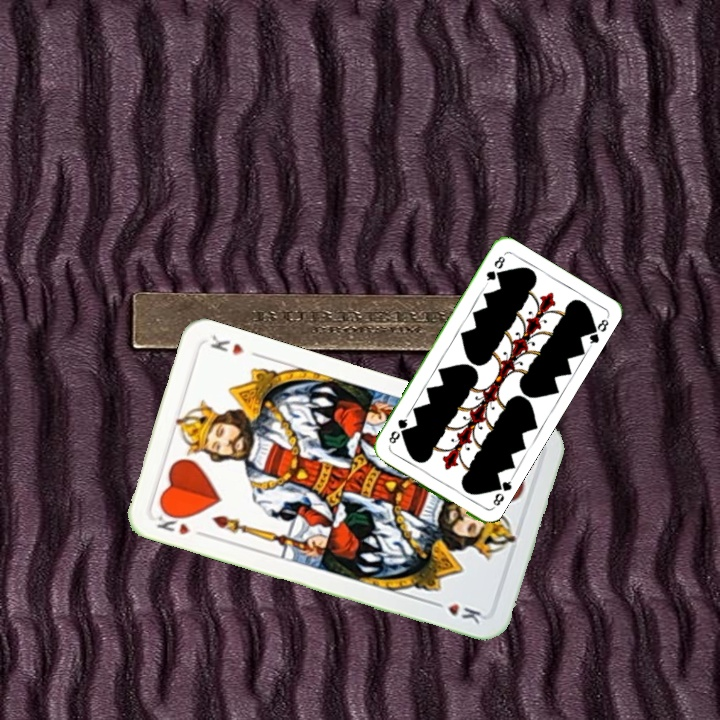G8: (488, 475, 515, 512), (481, 252, 508, 287)
HK: (152, 506, 208, 540)
